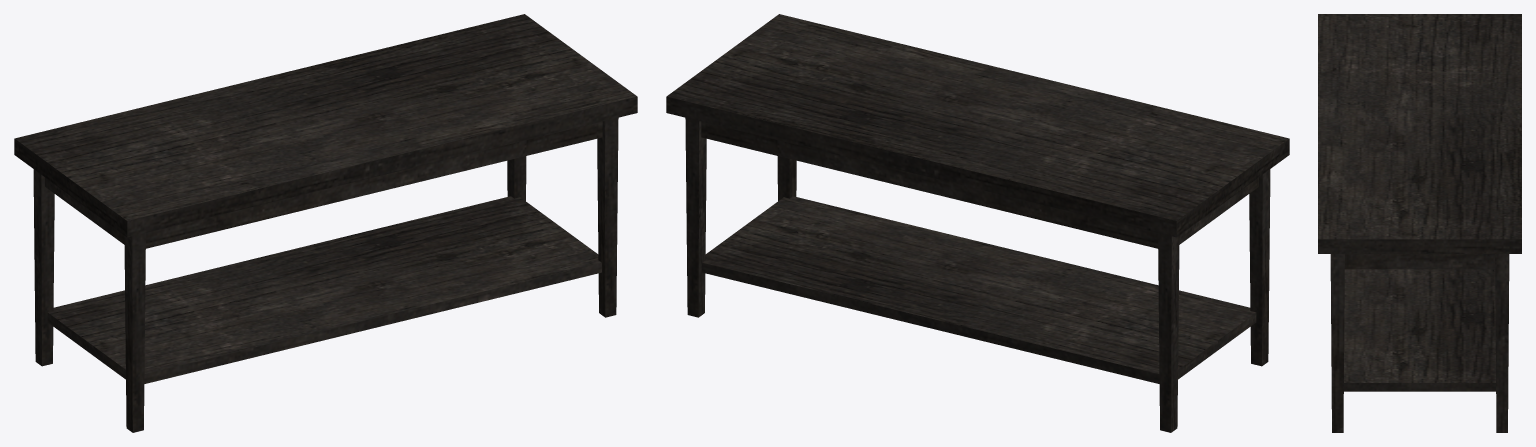
File: coffee_table_1.fbx
3 views of the same model, side by side, from view 1: azimuth 30°, elevation 25°; view 2: azimuth 150°, elevation 25°; view 3: azimuth 270°, elevation 25° (orthographic). The views are drawn at different scales.
Visible parts, largest first — view 1: coffee_table_1; view 2: coffee_table_1; view 3: coffee_table_1.
Part boxes in pixels (bbox=[...]): coffee_table_1: bbox=[14, 14, 637, 432]; coffee_table_1: bbox=[666, 14, 1289, 432]; coffee_table_1: bbox=[1318, 14, 1521, 432].
Bounding box in the file's own units: 1.62 × 0.62 × 0.67.
